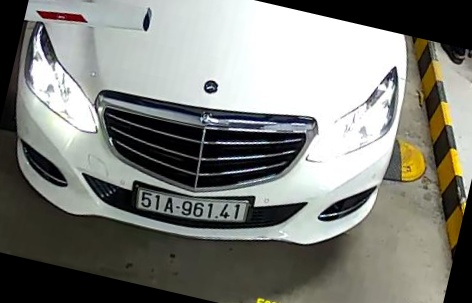plate: (131, 183, 256, 228)
